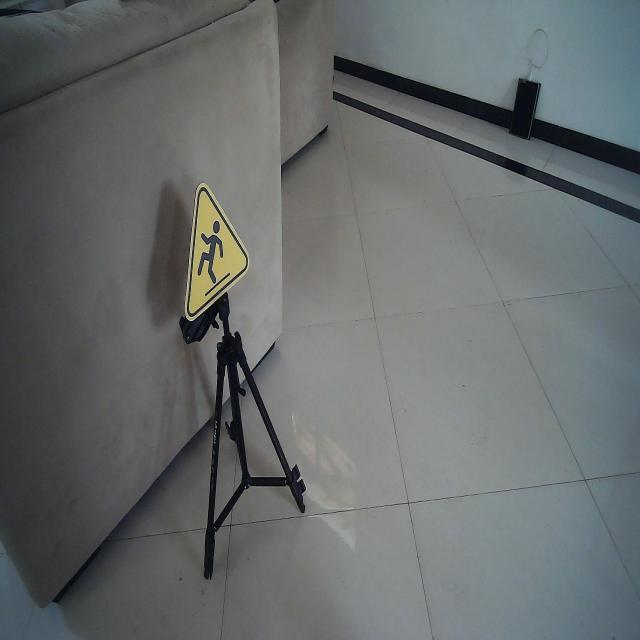slippery_sign: (184, 182, 252, 324)
